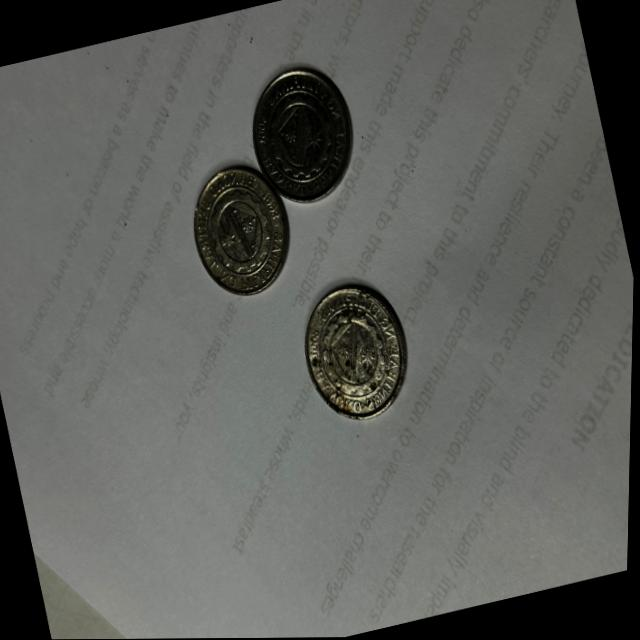1_Old_Back: (311, 292, 407, 409), (192, 173, 283, 287), (258, 79, 341, 188)
